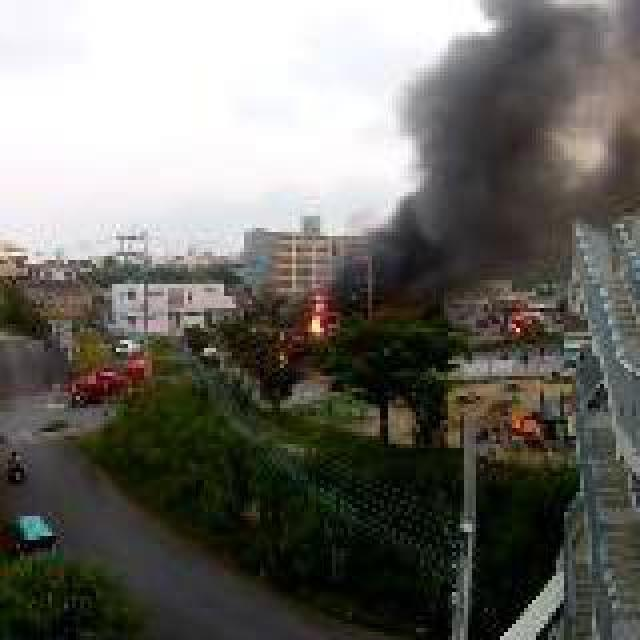smoke: (348, 0, 576, 328)
